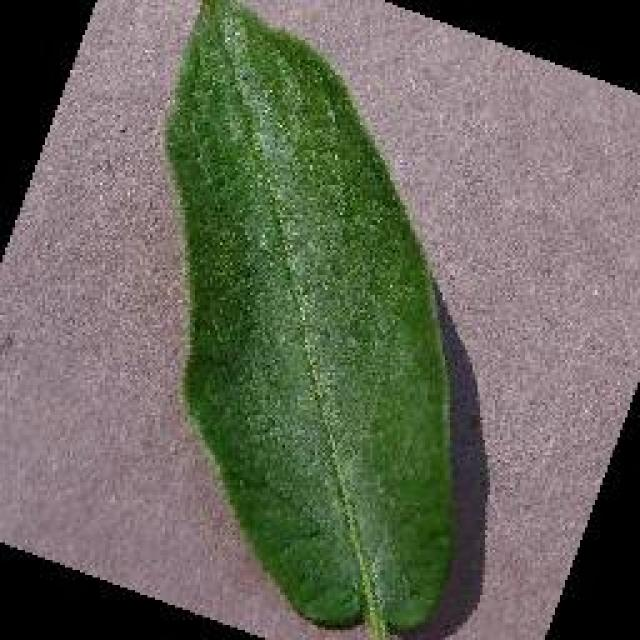Potato___healthy: (157, 0, 456, 638)
